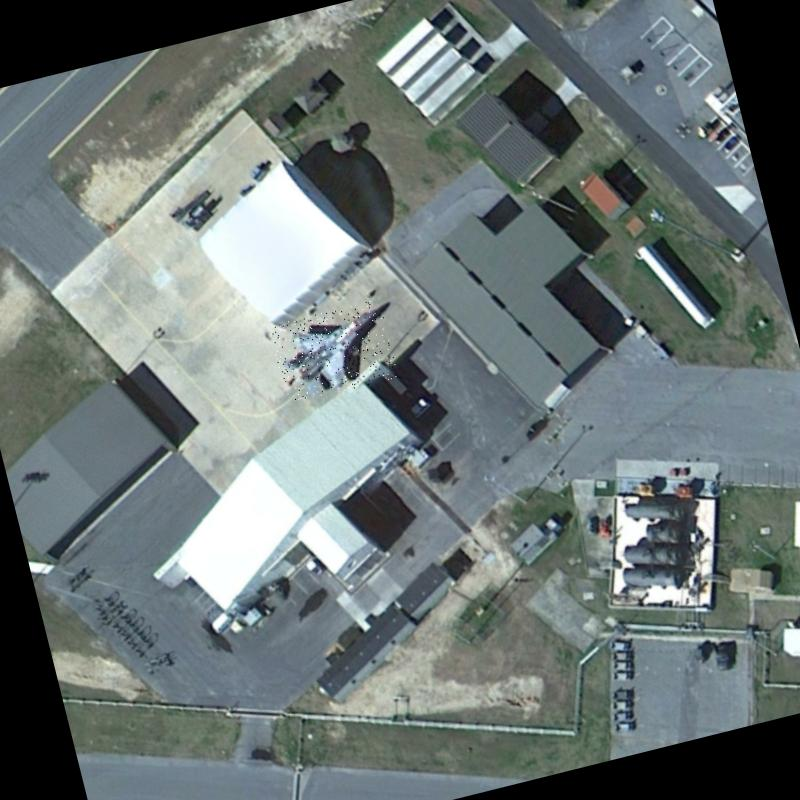A13: (268, 298, 398, 404)
